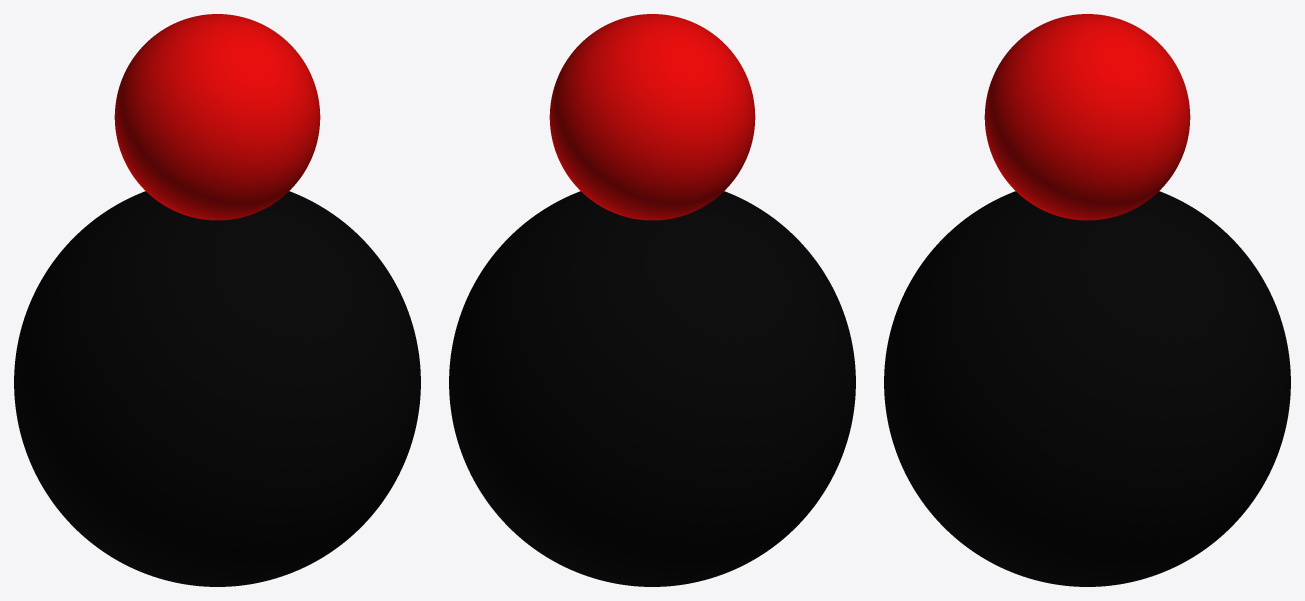
Rendered from hunter.fbx.
The picture shows the model from 3 angles, left to right: view 1: azimuth 30°, elevation 25°; view 2: azimuth 150°, elevation 25°; view 3: azimuth 270°, elevation 25°; orthographic projection.
Parts seen in each view (by area): view 1: Sphere, Sphere.001; view 2: Sphere, Sphere.001; view 3: Sphere, Sphere.001.
Boxes of the visible parts, x1,y1,x2,y2 form: Sphere: (14,191,420,586); Sphere.001: (114,14,320,220); Sphere: (449,191,855,586); Sphere.001: (549,14,755,220); Sphere: (884,191,1290,586); Sphere.001: (984,14,1190,220).
Bounding box in the file's own units: 464 × 687 × 464.
